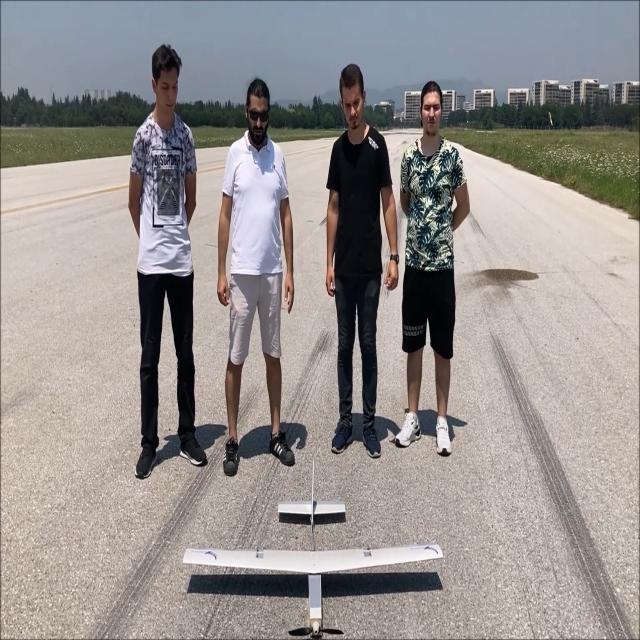Airplane: (181, 492, 452, 634)
